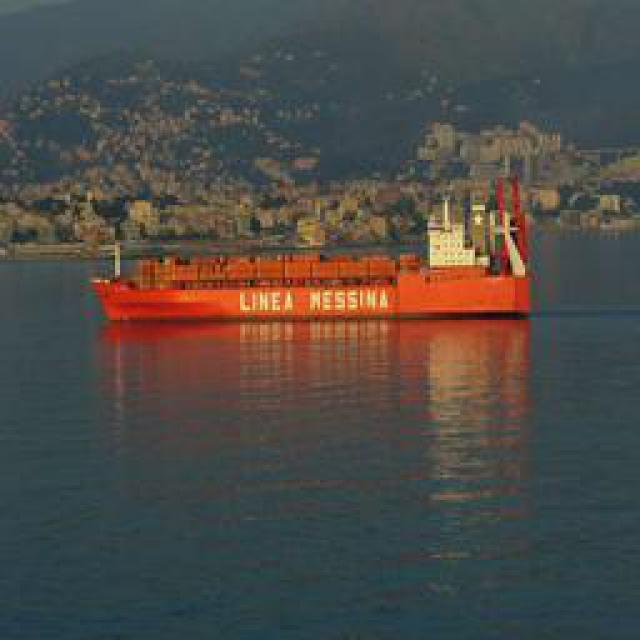Ship: (86, 258, 524, 323)
